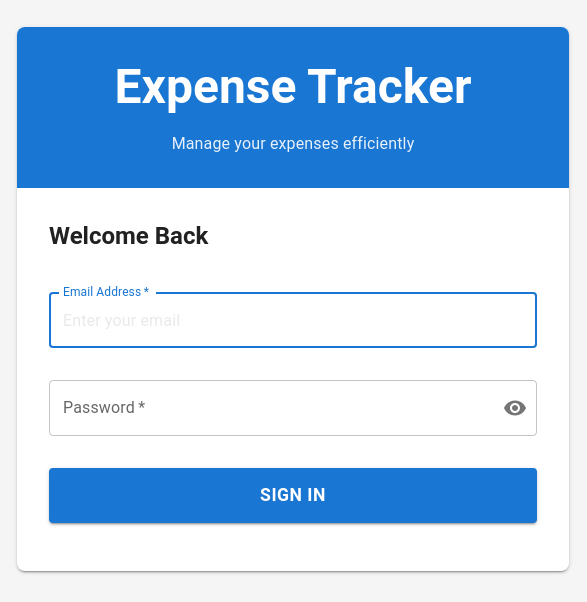
Test case: Login Component › shows validation error for short password
The width and height of the screenshot is (587, 602).
Need valid email first
Type "test@example.com" into the field labelled "Email Address *" at (293, 320), box [49,292,537,348]
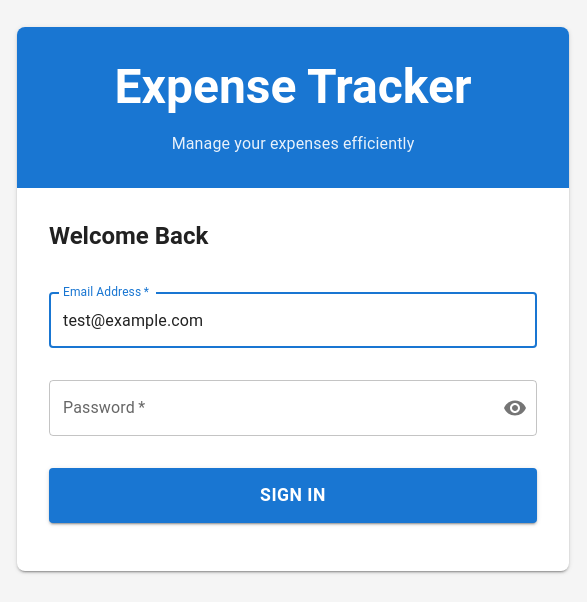
Type "123" into the password field labelled "Password *" at (268, 408), box [49,380,487,436]
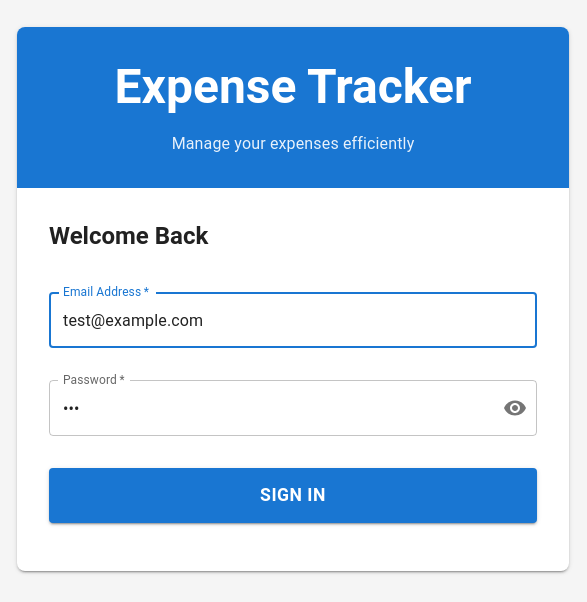
Click the button "Sign In" at (293, 495), box [49,468,537,523]
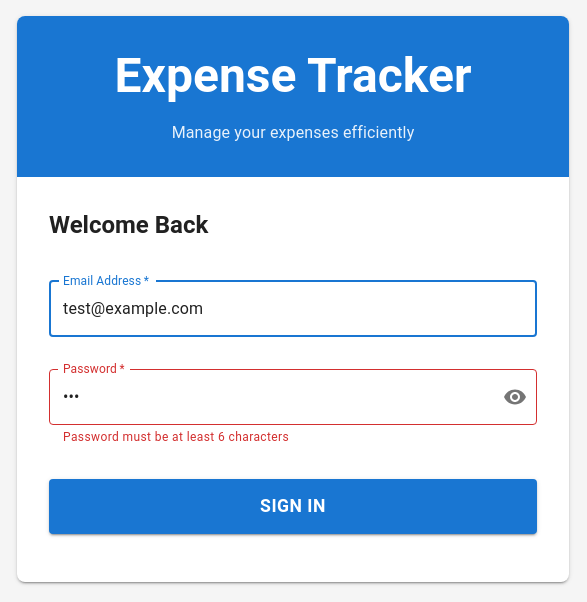
Expected: the text "Password must be at least 6 characters" is shown, [63,430,289,444]
